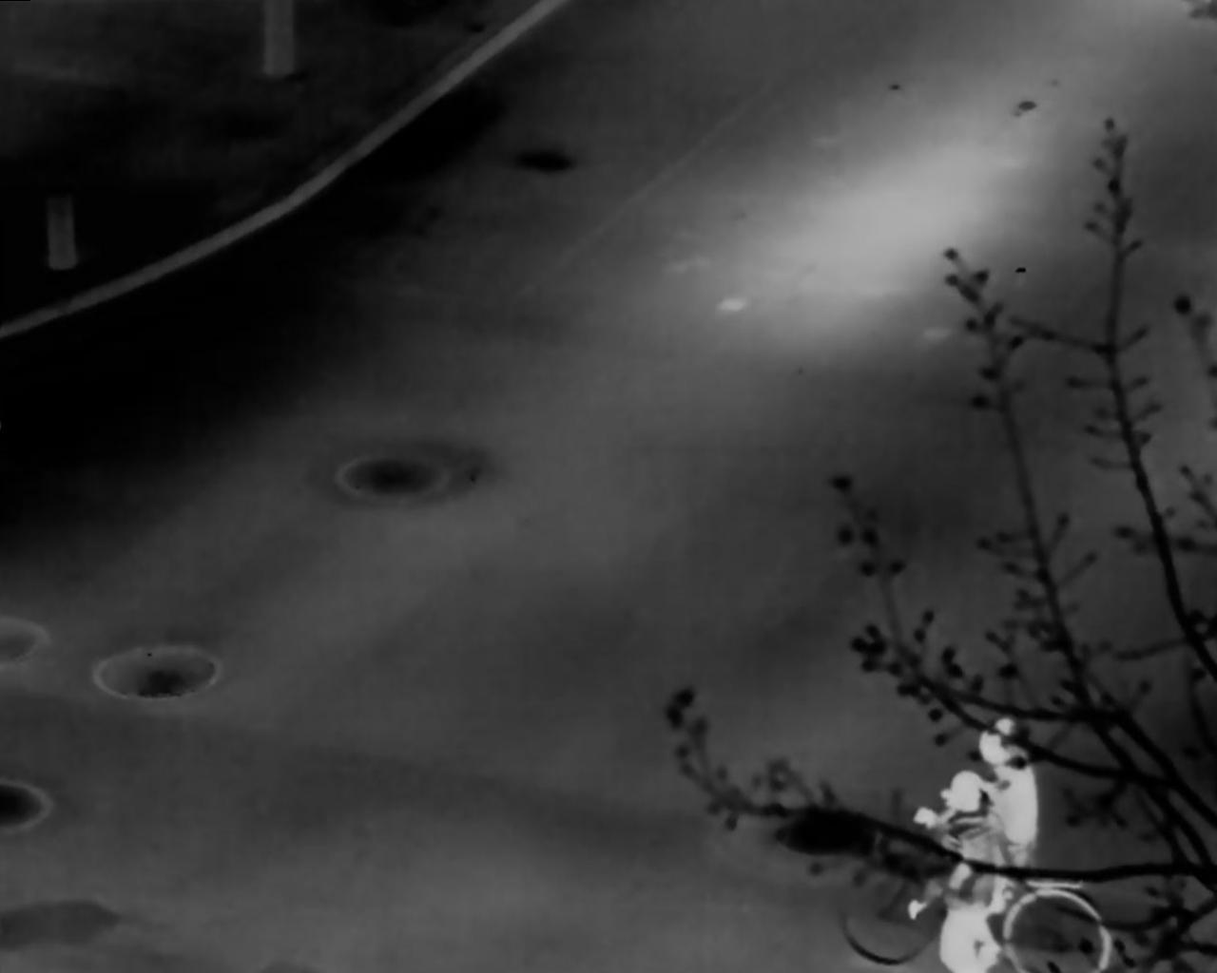person: (902, 768, 1014, 973), (976, 714, 1039, 873)
